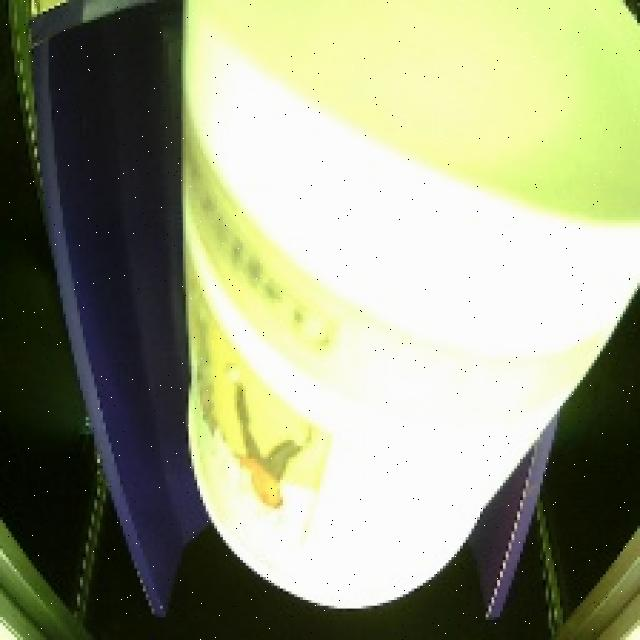cups: (152, 1, 640, 621)
